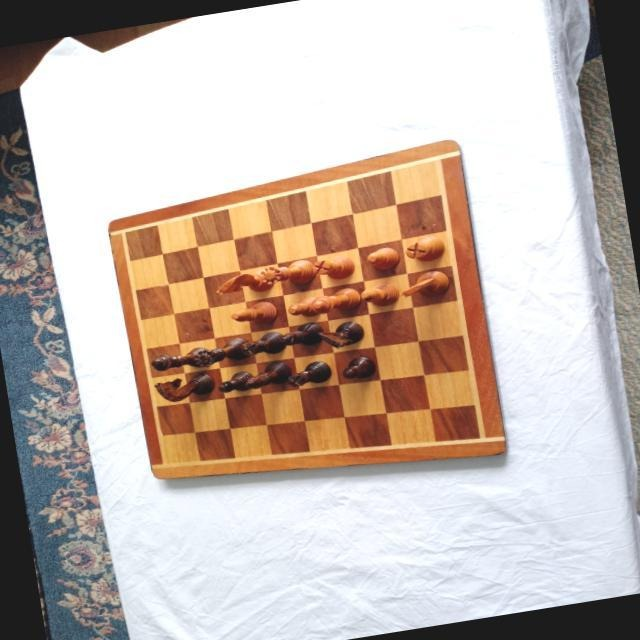black-bishop: (242, 357, 294, 390), (276, 319, 324, 351)
black-king: (148, 344, 213, 376)
black-knight: (152, 368, 215, 403), (315, 317, 365, 350)
black-pawn: (215, 368, 256, 396), (338, 352, 377, 381)
black-queen: (190, 334, 253, 369)
black-rook: (284, 358, 333, 389), (237, 329, 287, 359)
white-bishop: (227, 298, 278, 329), (358, 278, 401, 309)
white-king: (309, 284, 363, 316)
white-knight: (396, 266, 451, 302), (212, 268, 275, 299)
white-pawn: (284, 292, 323, 319), (364, 244, 399, 272)
white-queen: (256, 256, 316, 290)
white-rook: (402, 233, 446, 265), (312, 253, 356, 283)
